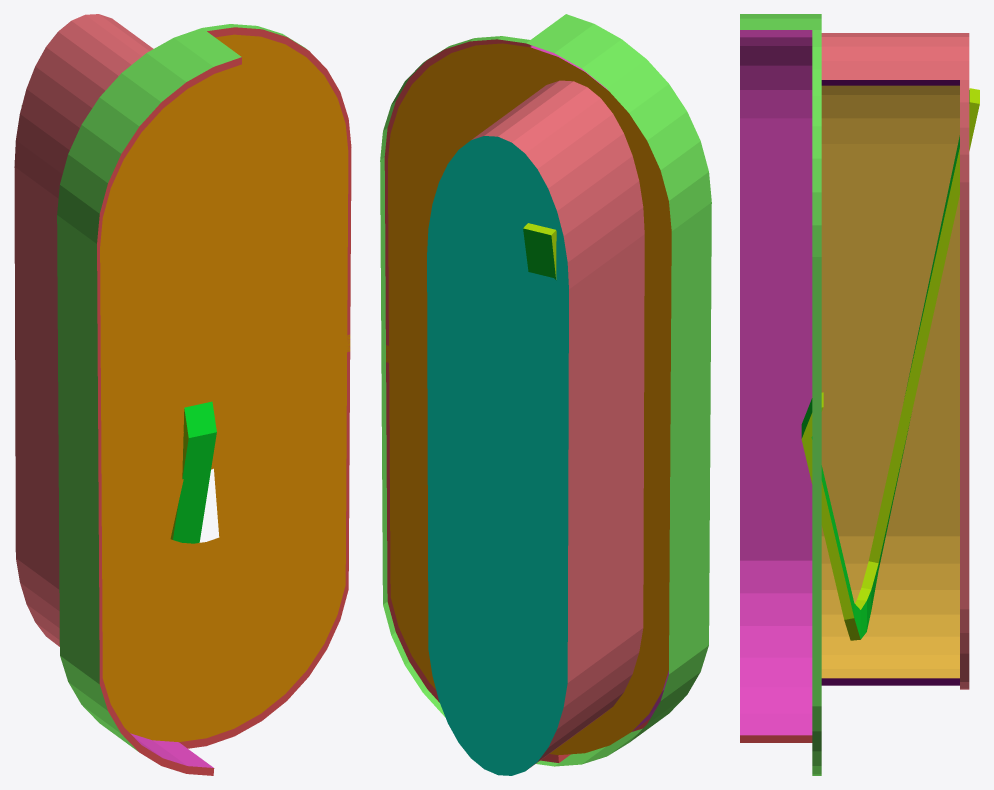
The model's file is casa3.fbx.
3 views of the same model, side by side, from view 1: azimuth 30°, elevation 25°; view 2: azimuth 150°, elevation 25°; view 3: azimuth 270°, elevation 25° (orthographic). The views are drawn at different scales.
Parts seen in each view (by area): view 1: Cylinder.005, Cylinder.004, Cube.001; view 2: Cylinder.004, Cylinder.005, Cube.001; view 3: Cylinder.004, Cylinder.005, Cube.001.
Boxes of the visible parts, left/top/right/bottom form: Cylinder.005: left=57, top=24, right=351, bottom=775; Cylinder.004: left=14, top=14, right=153, bottom=646; Cube.001: left=21, top=105, right=216, bottom=543; Cylinder.004: left=427, top=80, right=644, bottom=775; Cylinder.005: left=380, top=14, right=711, bottom=766; Cube.001: left=523, top=223, right=556, bottom=280; Cylinder.004: left=821, top=33, right=969, bottom=689; Cylinder.005: left=740, top=14, right=821, bottom=775; Cube.001: left=801, top=88, right=979, bottom=640.
Bounding box in the file's own units: 474 × 1117 × 332.
